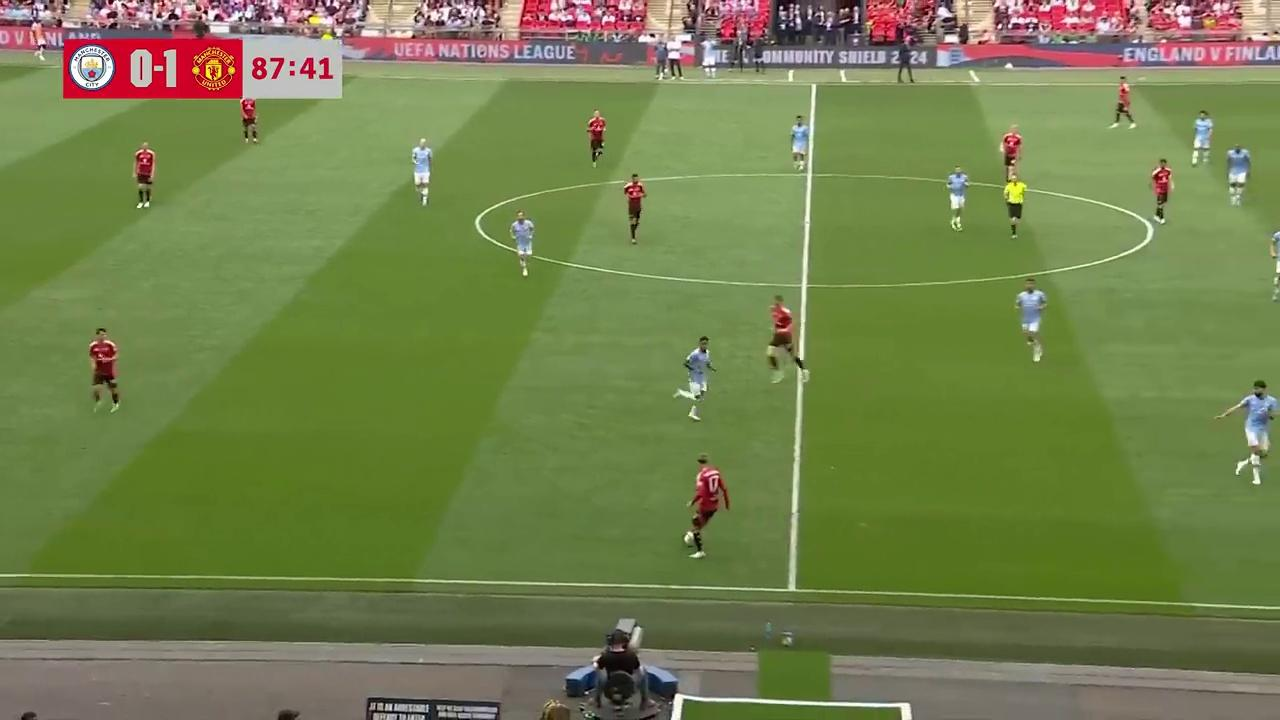ball: (681, 528, 695, 546)
player: (1212, 380, 1274, 484), (681, 455, 730, 557), (765, 294, 809, 384), (674, 336, 716, 420), (88, 327, 121, 414), (1014, 277, 1046, 363), (509, 209, 535, 278), (1149, 157, 1175, 224), (622, 171, 646, 243), (410, 137, 433, 206), (1226, 143, 1251, 206), (946, 165, 969, 231), (133, 141, 155, 209), (1109, 75, 1136, 130), (998, 123, 1022, 182), (1191, 109, 1213, 166), (586, 109, 607, 167), (789, 114, 807, 170), (239, 93, 259, 143), (1269, 225, 1280, 301)
referee: (1149, 157, 1175, 224), (1004, 169, 1025, 239)
